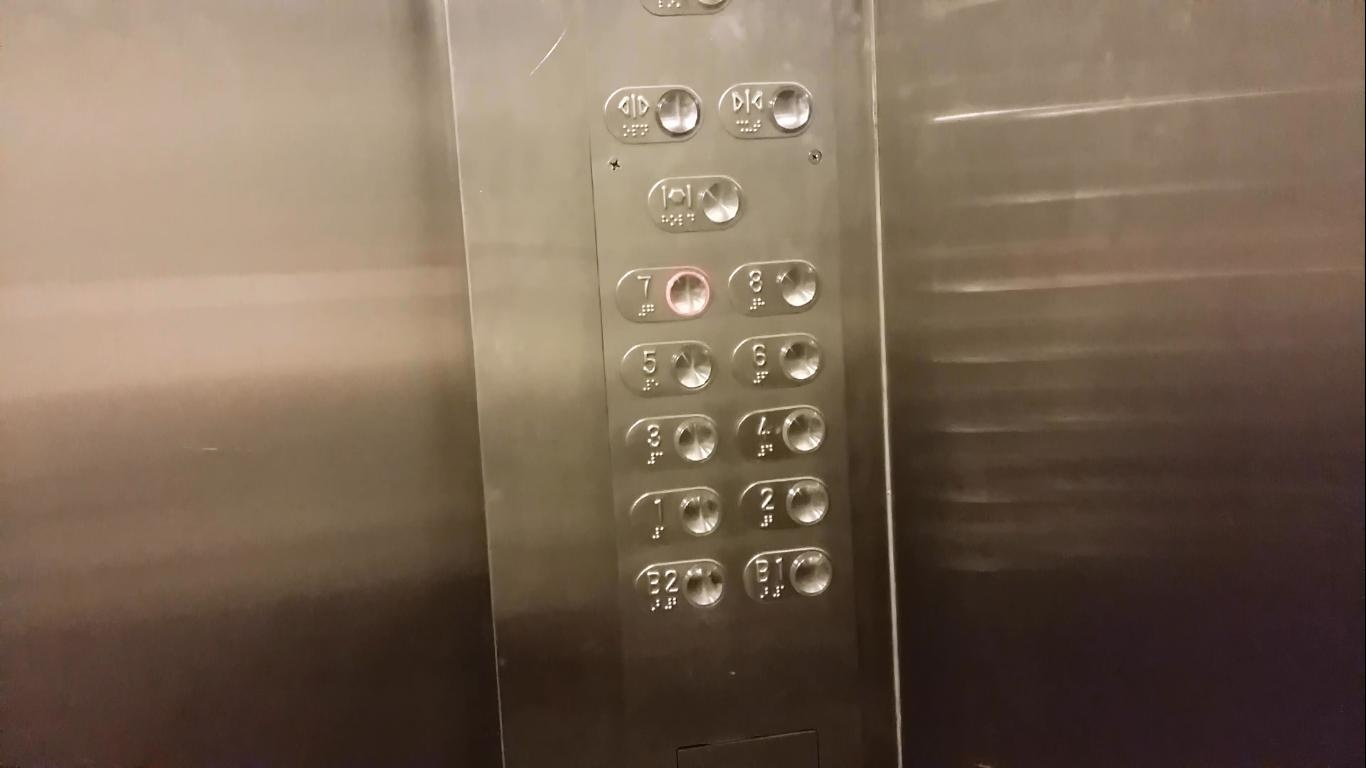1: (628, 487, 724, 545)
2: (739, 476, 828, 533)
3: (623, 413, 719, 465)
4: (734, 405, 826, 461)
5: (619, 340, 714, 396)
6: (729, 331, 820, 389)
7: (614, 265, 714, 323)
8: (728, 259, 819, 318)
B1: (742, 547, 835, 603)
B2: (637, 558, 728, 614)
close: (718, 82, 813, 138)
open: (600, 80, 702, 142)
unknown: (647, 175, 748, 233)
